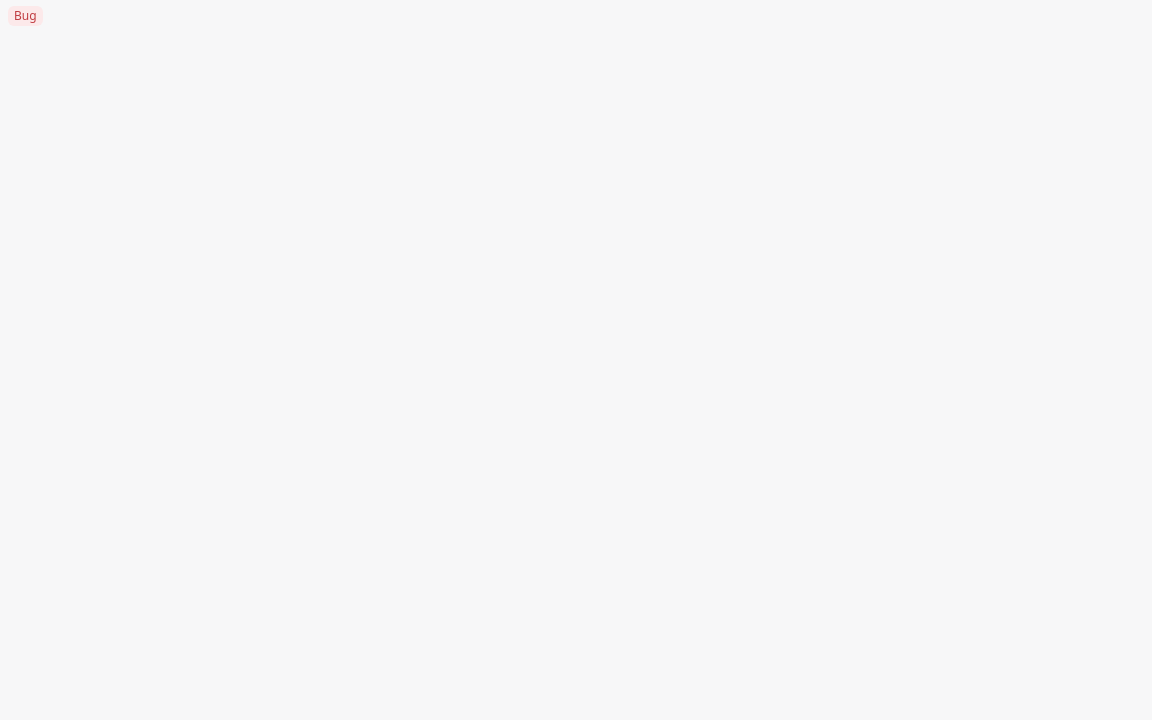
Scenario: LabelField › cancelling the delete confirm keeps the label
Click the button "Bug" at (28, 26), box [0, 0, 1151, 32]
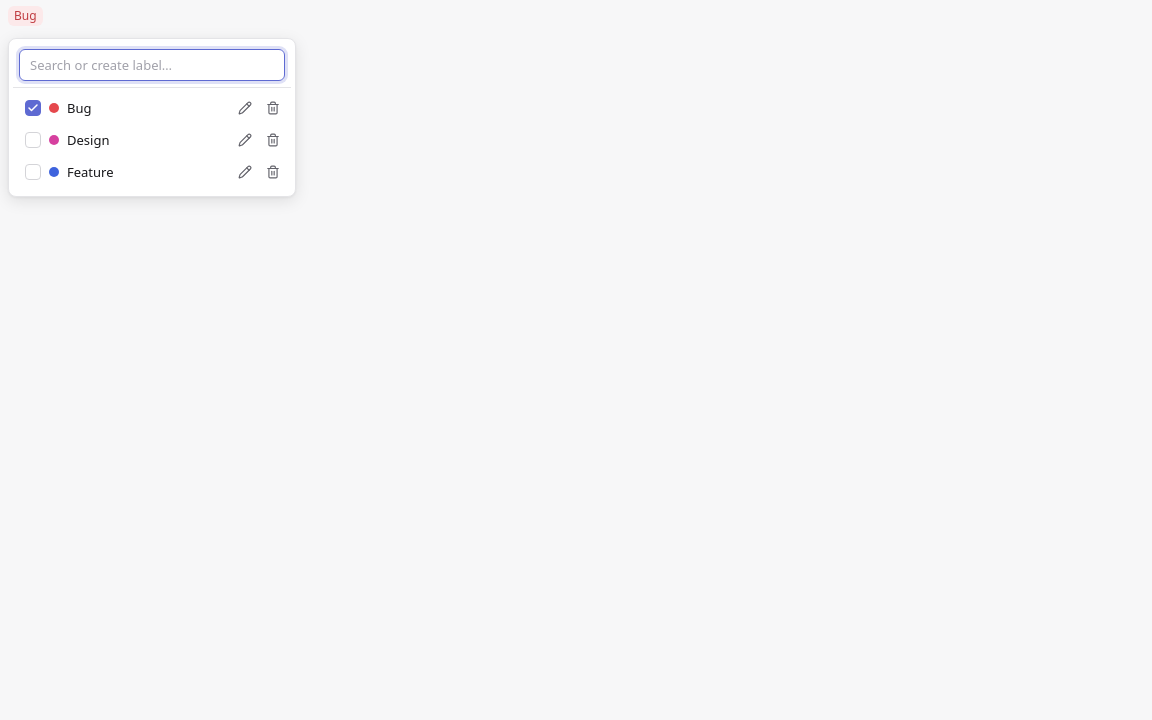
Click the button named "Delete Feature" at (273, 172), box [259, 158, 287, 186]
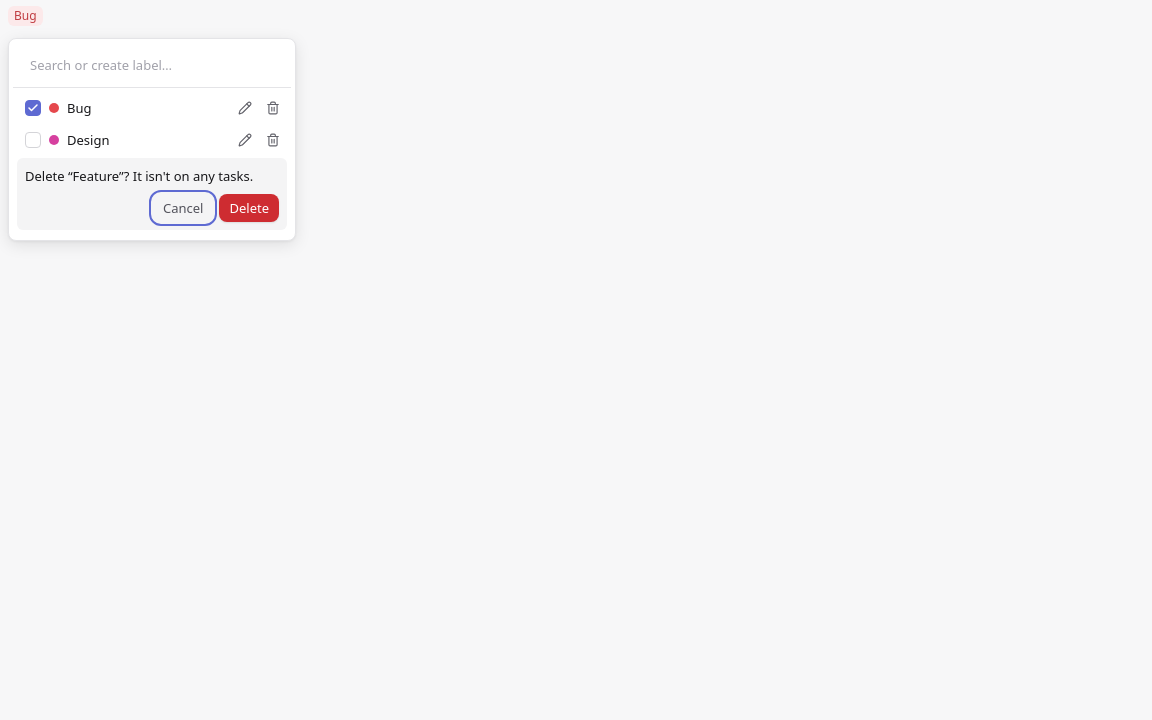
Expected: the text "Delete “Feature”? It isn't on any tasks." is shown, [25, 166, 279, 186]
Click the button "Cancel" at (183, 208), box [153, 194, 214, 222]
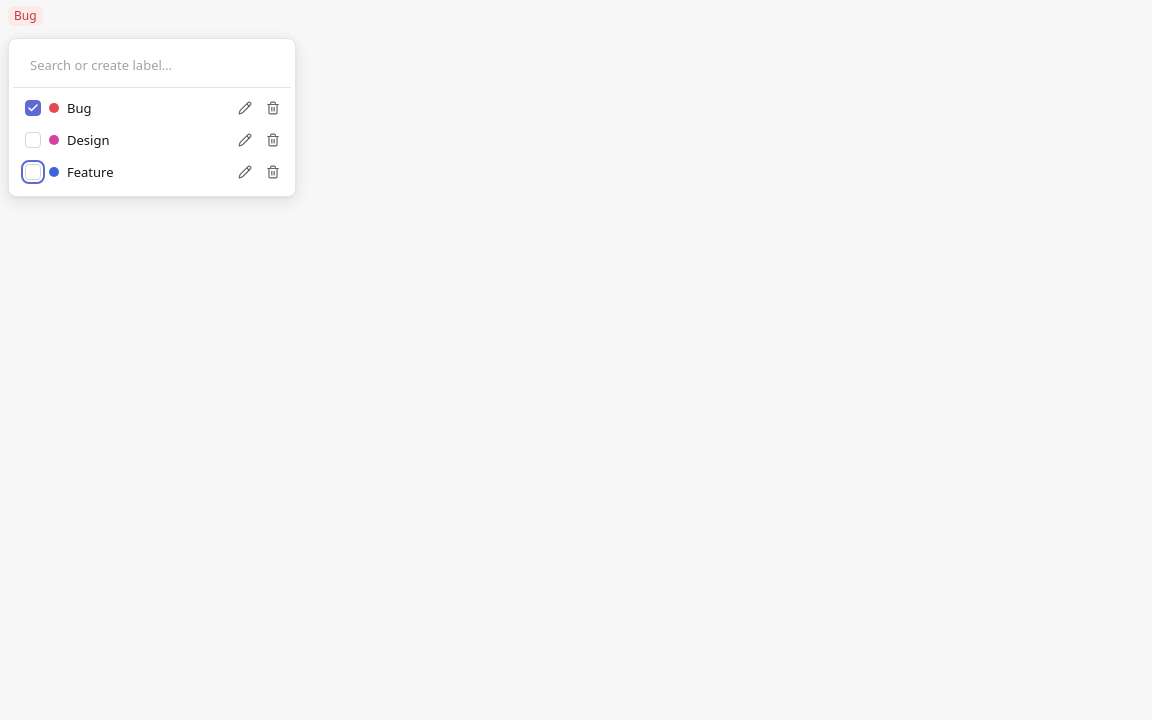
Expected: the checkbox labelled "Feature" is shown, [25, 164, 41, 180]
